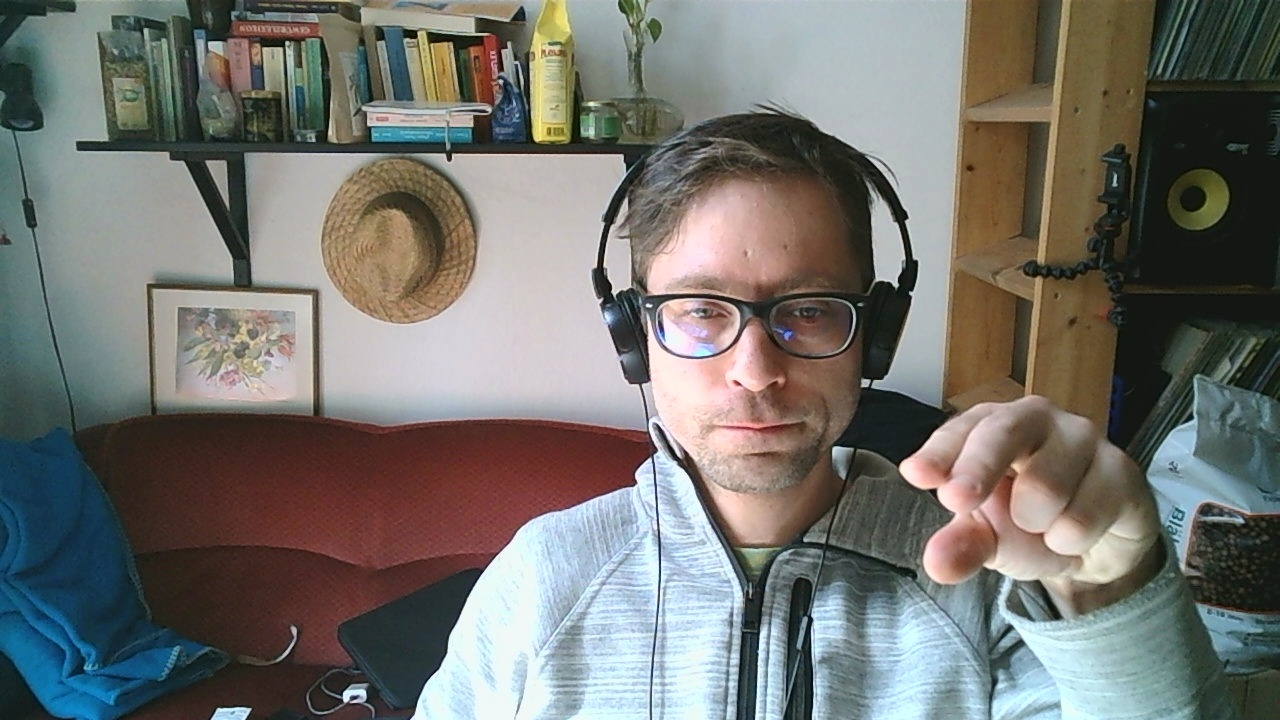no: (897, 395, 1165, 590)
